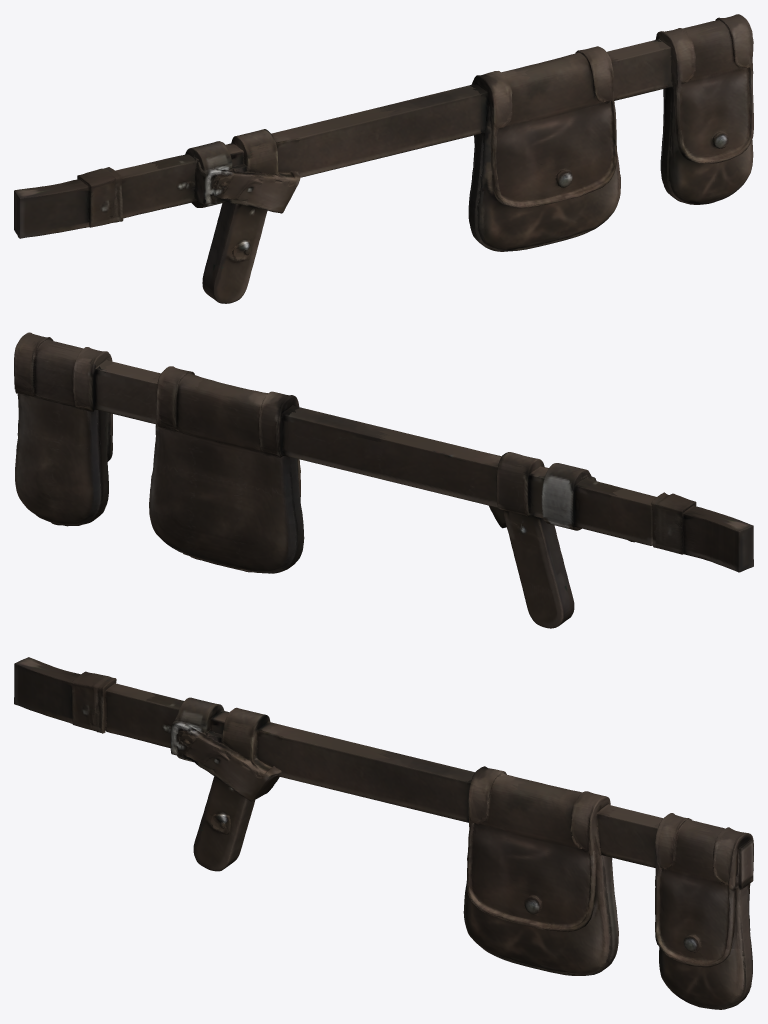
File: belt.fbx
3 views of the same model, one above another, from view 1: azimuth 30°, elevation 25°; view 2: azimuth 150°, elevation 25°; view 3: azimuth 330°, elevation 25° (orthographic).
Parts seen in each view (by area): view 1: belt; view 2: belt; view 3: belt.
Boxes of the visible parts, <box> form: belt: <box>14,14,753,303</box>; belt: <box>14,332,753,628</box>; belt: <box>14,657,753,1009</box>.
Bounding box in the file's own units: 1 × 0.2363 × 0.0727.
